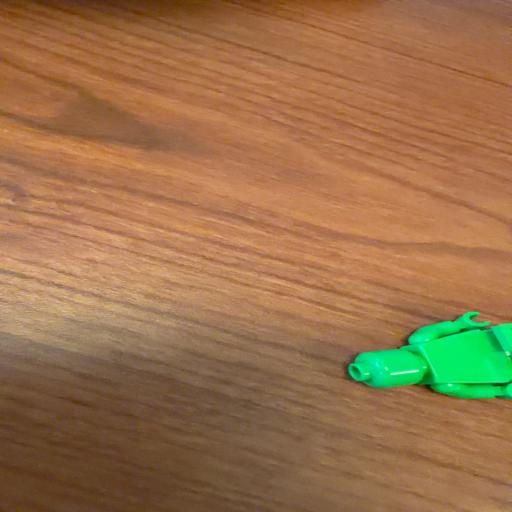UnoQ-minifig-detector: (347, 312, 512, 400)
